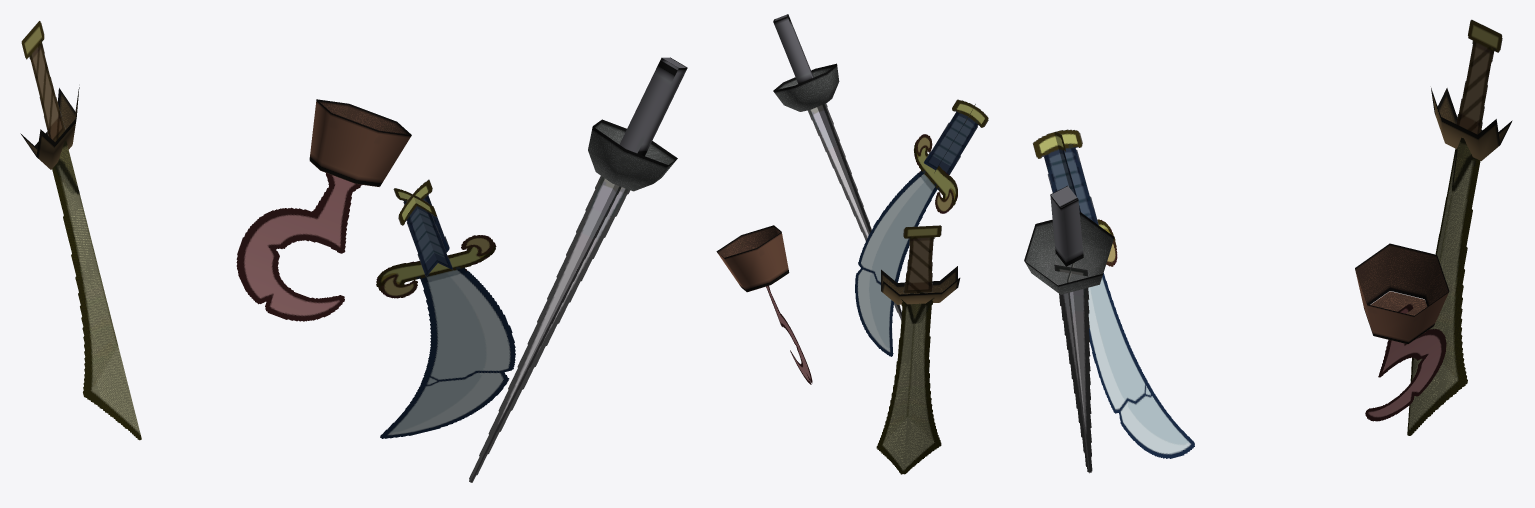
File: c_otitabuki.dae
3 renders of one model, left to right at view 1: azimuth 30°, elevation 25°; view 2: azimuth 150°, elevation 25°; view 3: azimuth 270°, elevation 25°, orthographic. The views are drawn at different scales.
Visible parts, largest first — view 1: dai1_base_pPlane62, dai1_base_pPlane61, dai1_base_pPlane59, dai1_base_pCylinder8, dai1_base_pPlane56, dai1_base_pPlane60, dai1_base_pSphere9, dai1_base_pCube3, dai1_base_pPlane53, dai1_base_pPlane54, dai1_base_pPlane72, dai1_base_pPlane55 (+7 smaller); view 2: dai1_base_pPlane62, dai1_base_pPlane59, dai1_base_pCylinder8, dai1_base_pPlane78, dai1_base_pPlane60, dai1_base_pPlane54, dai1_base_pSphere9, dai1_base_pPlane72, dai1_base_pPlane80, dai1_base_pCube3, dai1_base_pPlane73, dai1_base_pPlane56 (+7 smaller); view 3: dai1_base_pPlane62, dai1_base_pPlane59, dai1_base_pCylinder9, dai1_base_pPlane60, dai1_base_pSphere9, dai1_base_pCylinder8, dai1_base_pPlane61, dai1_base_pPlane80, dai1_base_pPlane72, dai1_base_pPlane76, dai1_base_pPlane54, dai1_base_pCube3 (+7 smaller).
Boxes of the visible parts, x1=… form: dai1_base_pPlane62: x1=376, y1=235, x2=515, y2=438; dai1_base_pPlane61: x1=236, y1=173, x2=361, y2=321; dai1_base_pPlane59: x1=52, y1=140, x2=141, y2=439; dai1_base_pCylinder8: x1=309, y1=99, x2=411, y2=186; dai1_base_pPlane56: x1=469, y1=176, x2=630, y2=482; dai1_base_pPlane60: x1=377, y1=236, x2=514, y2=438; dai1_base_pSphere9: x1=588, y1=119, x2=677, y2=191; dai1_base_pCube3: x1=619, y1=57, x2=687, y2=156; dai1_base_pPlane53: x1=237, y1=174, x2=361, y2=320; dai1_base_pPlane54: x1=54, y1=144, x2=141, y2=439; dai1_base_pPlane72: x1=21, y1=21, x2=65, y2=141; dai1_base_pPlane55: x1=469, y1=176, x2=629, y2=480; dai1_base_pPlane62: x1=855, y1=134, x2=957, y2=356; dai1_base_pPlane59: x1=876, y1=292, x2=941, y2=474; dai1_base_pCylinder8: x1=717, y1=225, x2=789, y2=291; dai1_base_pPlane78: x1=923, y1=99, x2=988, y2=174; dai1_base_pPlane60: x1=855, y1=136, x2=957, y2=355; dai1_base_pPlane54: x1=877, y1=299, x2=940, y2=473; dai1_base_pSphere9: x1=773, y1=63, x2=839, y2=111; dai1_base_pPlane72: x1=903, y1=225, x2=941, y2=293; dai1_base_pPlane80: x1=807, y1=103, x2=901, y2=319; dai1_base_pCube3: x1=773, y1=14, x2=813, y2=83; dai1_base_pPlane73: x1=881, y1=268, x2=960, y2=304; dai1_base_pPlane56: x1=817, y1=104, x2=901, y2=315; dai1_base_pPlane62: x1=1088, y1=219, x2=1194, y2=458; dai1_base_pPlane59: x1=1407, y1=137, x2=1480, y2=435; dai1_base_pCylinder9: x1=1355, y1=243, x2=1449, y2=344; dai1_base_pPlane60: x1=1088, y1=222, x2=1192, y2=458; dai1_base_pSphere9: x1=1024, y1=212, x2=1114, y2=294; dai1_base_pCylinder8: x1=1355, y1=245, x2=1449, y2=344; dai1_base_pPlane61: x1=1365, y1=304, x2=1446, y2=421; dai1_base_pPlane80: x1=1054, y1=265, x2=1092, y2=472; dai1_base_pPlane72: x1=1456, y1=19, x2=1502, y2=134; dai1_base_pPlane76: x1=1032, y1=129, x2=1098, y2=225; dai1_base_pPlane54: x1=1407, y1=140, x2=1479, y2=434; dai1_base_pCube3: x1=1050, y1=185, x2=1083, y2=266.
Size of the model in its own units: 82.95 by 75.03 by 80.28.
9 materials, 9 textured.
